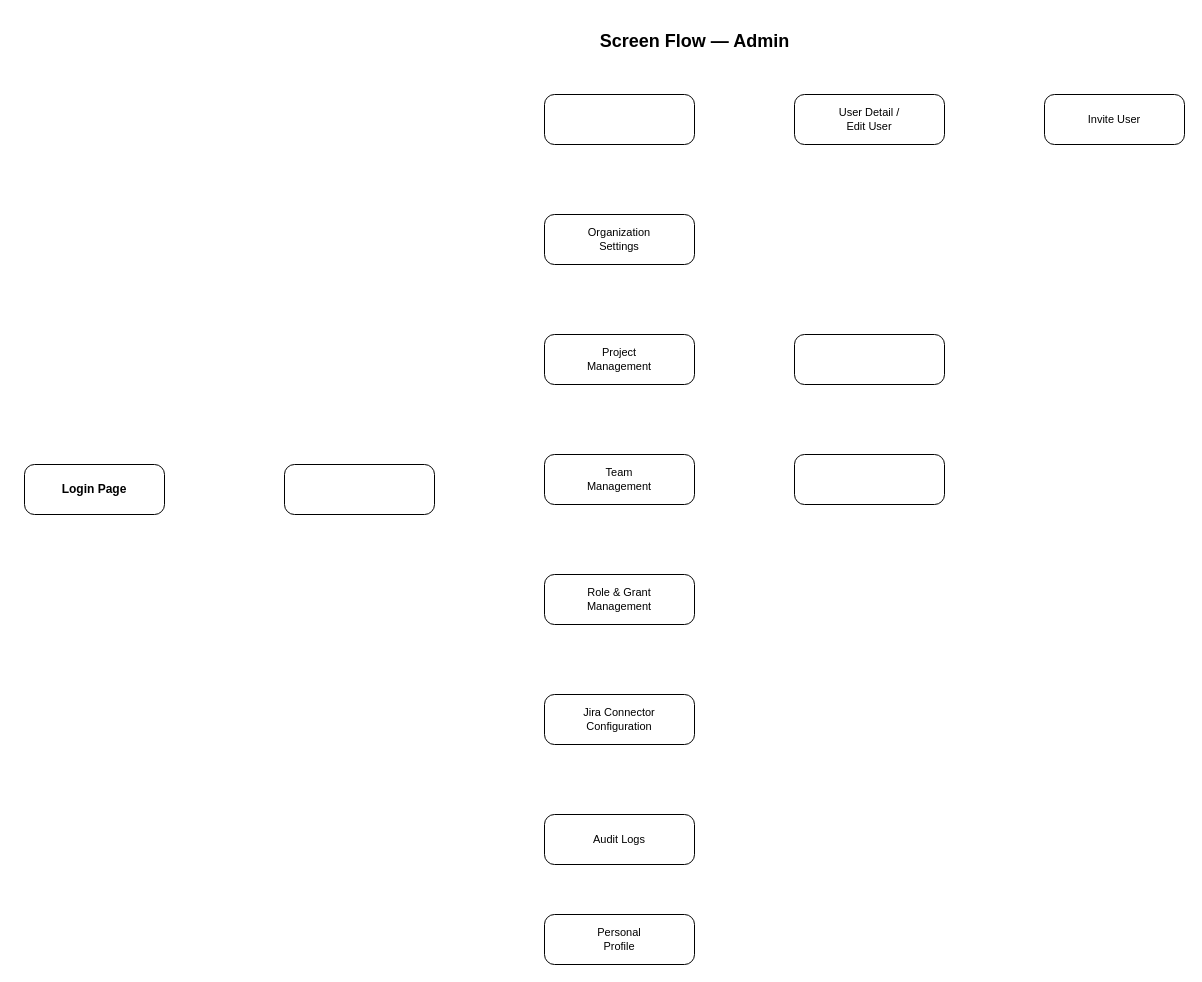
Some shapes in this 1202 by 982 pixel diagram are drawn without their labels. Here are the shapes that lost their labels. From the top down, the centre of each, then its label:
(619,119): User Management
(869,359): Project Detail
(359,489): Admin Dashboard
(869,479): Team Detail / Members
